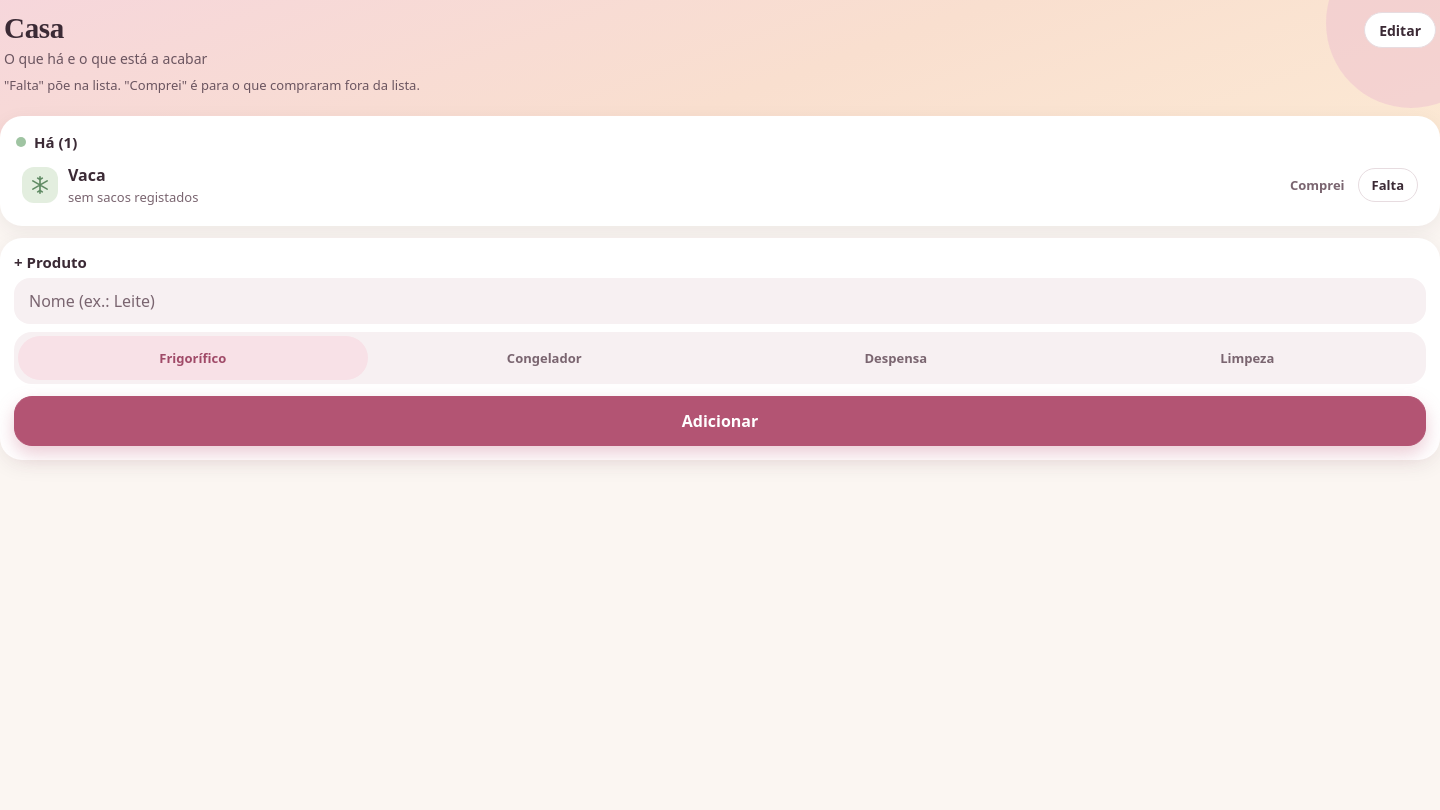
it: Desfazer after Comprei closes an unanswered Para o congelador
Click the button with aria-label "Comprei Vaca" at [1317, 185], box [1281, 168, 1354, 202]
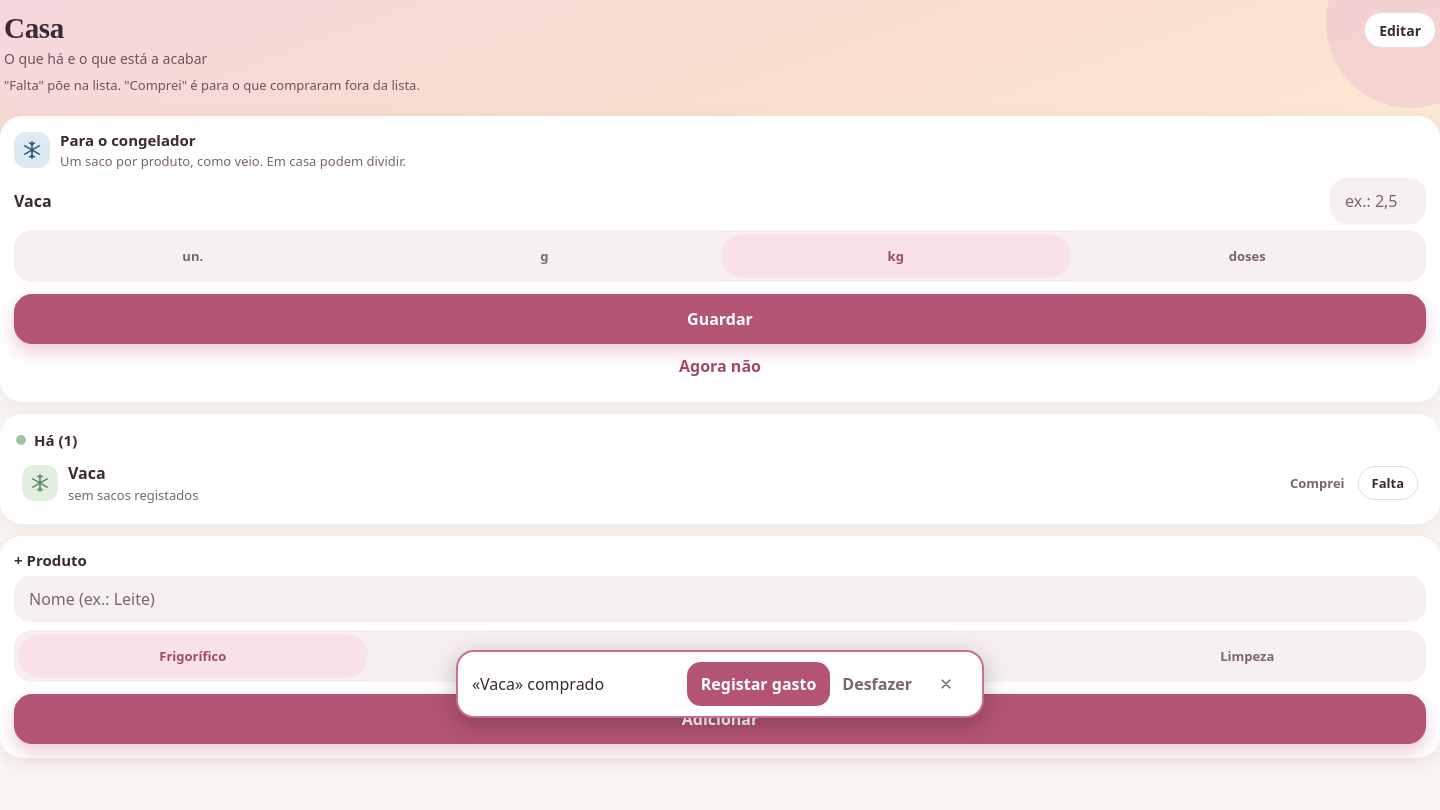
Click the button "Desfazer" at [877, 684], box [834, 662, 920, 706]
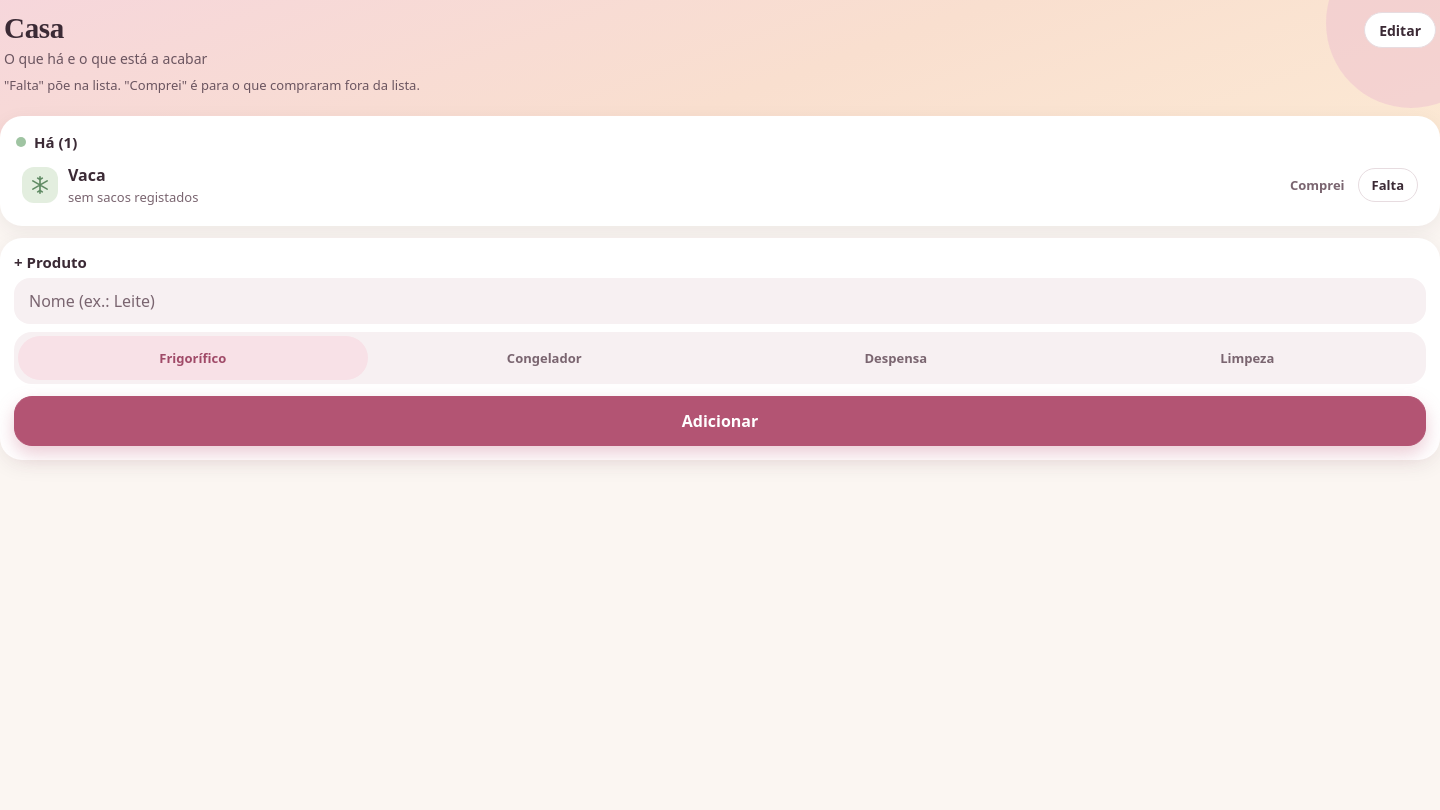
expect the heading "Para o congelador" is gone: met
